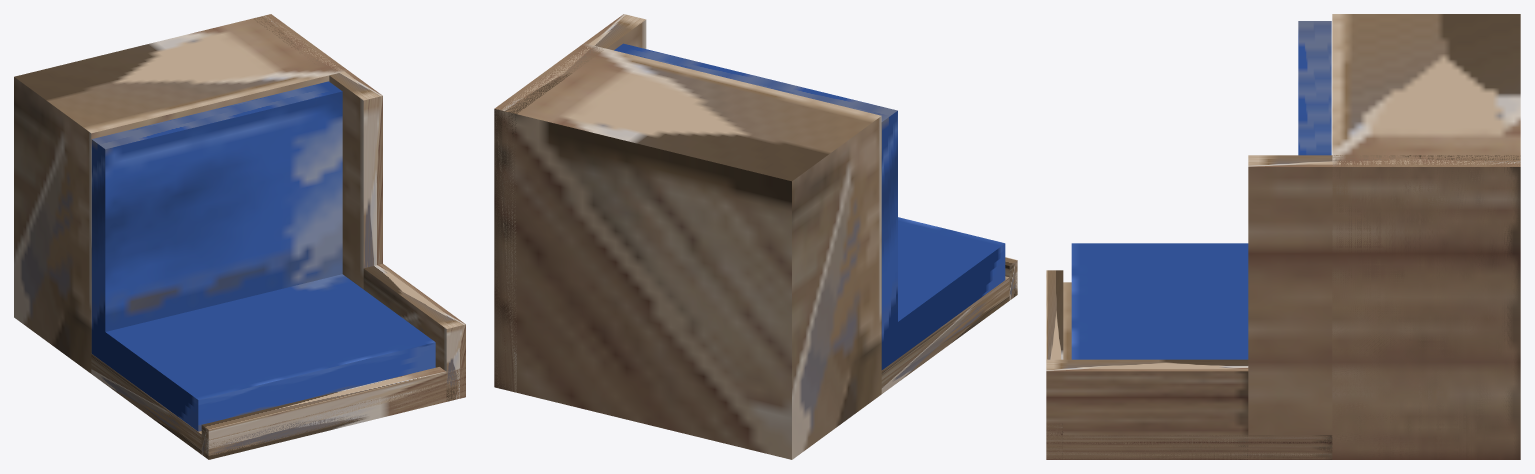
Rendered from pz_blue_maple_1_fidelity_r1.obj.
The picture shows the model from 3 angles, left to right: view 1: azimuth 30°, elevation 25°; view 2: azimuth 150°, elevation 25°; view 3: azimuth 270°, elevation 25°; orthographic projection. The views are drawn at different scales.
Parts seen in each view (by area): view 1: pz_blue_maple_1_fidelity_r1; view 2: pz_blue_maple_1_fidelity_r1; view 3: pz_blue_maple_1_fidelity_r1.
Part boxes in pixels (x1=…): pz_blue_maple_1_fidelity_r1: x1=14, y1=14, x2=465, y2=459; pz_blue_maple_1_fidelity_r1: x1=494, y1=14, x2=1017, y2=459; pz_blue_maple_1_fidelity_r1: x1=1046, y1=14, x2=1520, y2=459.
Bounding box in the file's own units: 0.85 × 0.76 × 1.12.
Materials: 1 (1 with a texture image).
